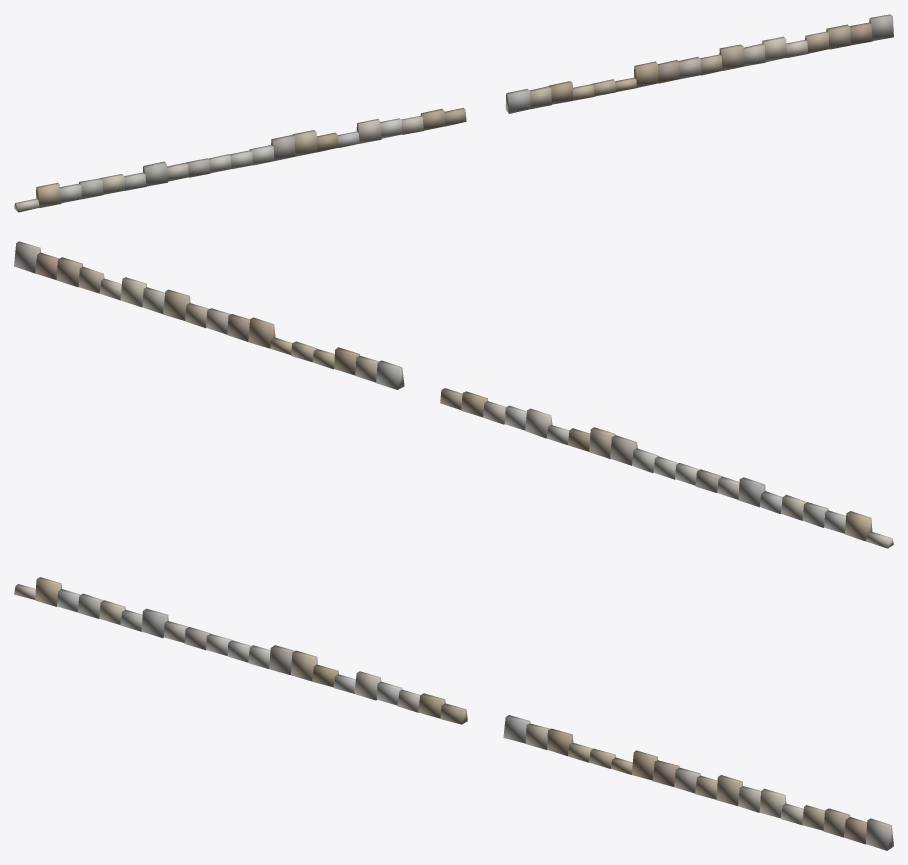
The model's file is farm_14_21_far.glb.
3 views of the same model, one above another, from view 1: azimuth 30°, elevation 25°; view 2: azimuth 150°, elevation 25°; view 3: azimuth 330°, elevation 25° (orthographic). The views are drawn at different scales.
Parts seen in each view (by area): view 1: geometry_0; view 2: geometry_0; view 3: geometry_0.
Boxes of the visible parts, x1=… form: geometry_0: x1=14, y1=14, x2=893, y2=212; geometry_0: x1=14, y1=241, x2=893, y2=548; geometry_0: x1=14, y1=577, x2=893, y2=850.
Size of the model in its own units: 64.8 by 2.38 by 7.59.
